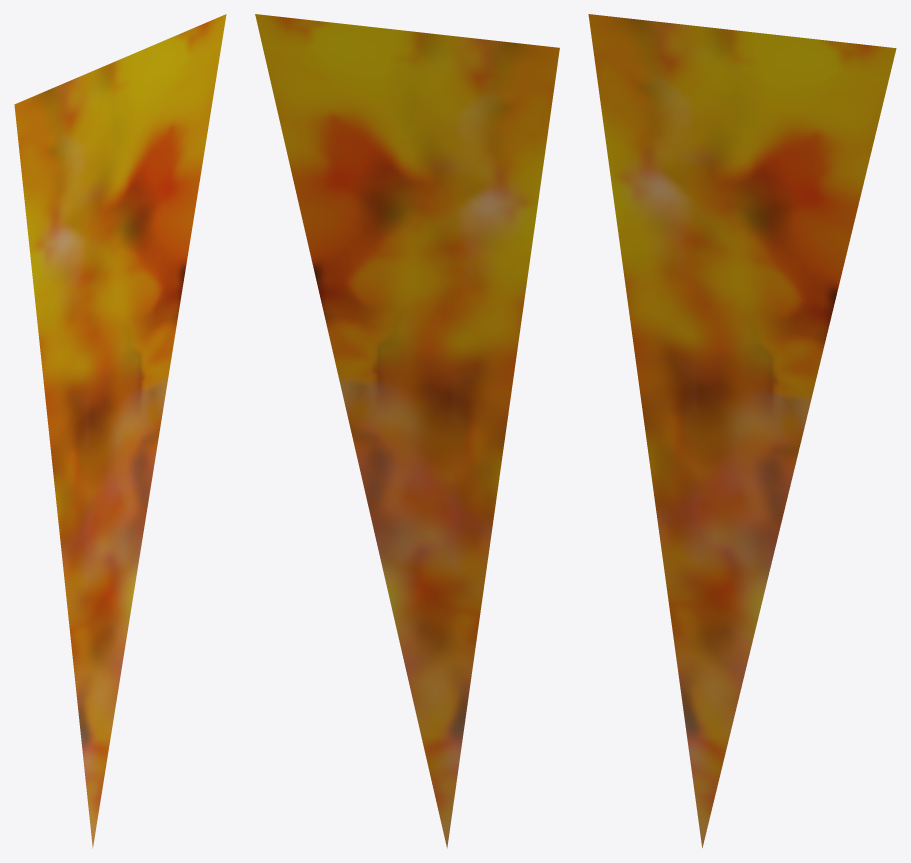
Rendered from Island_2_LatTri_4.gltf.
3 renders of one model, left to right at view 1: azimuth 30°, elevation 25°; view 2: azimuth 150°, elevation 25°; view 3: azimuth 330°, elevation 25°, orthographic. The views are drawn at different scales.
Visible parts, largest first — view 1: Island_2_LatTri_4; view 2: Island_2_LatTri_4; view 3: Island_2_LatTri_4.
Part boxes in pixels (<box>): Island_2_LatTri_4: <box>14,14,226,848</box>; Island_2_LatTri_4: <box>255,14,559,848</box>; Island_2_LatTri_4: <box>588,14,896,847</box>.
Bounding box in the file's own units: 1.36 × 4.01 × 0.3704.
1 material, 1 textured.
